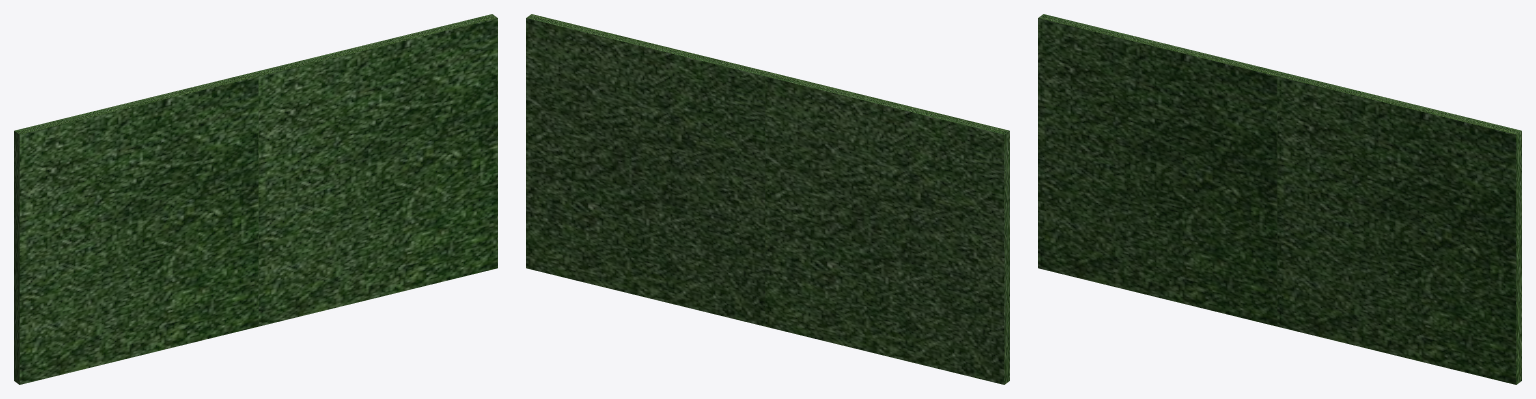
3 renders of one model, left to right at view 1: azimuth 30°, elevation 25°; view 2: azimuth 150°, elevation 25°; view 3: azimuth 330°, elevation 25°, orthographic.
Visible parts, largest first — view 1: PC312_Cube.315, PC311_Cube.314; view 2: PC312_Cube.315, PC311_Cube.314; view 3: PC311_Cube.314, PC312_Cube.315.
Part boxes in pixels (x1,y1,x2,y2): PC312_Cube.315: [14, 72, 258, 384]; PC311_Cube.314: [253, 14, 497, 326]; PC312_Cube.315: [765, 72, 1009, 384]; PC311_Cube.314: [526, 14, 770, 326]; PC311_Cube.314: [1277, 72, 1521, 384]; PC312_Cube.315: [1038, 14, 1282, 326].
Size of the model in its own units: 20 by 10 by 0.4.
1 material, 1 textured.
